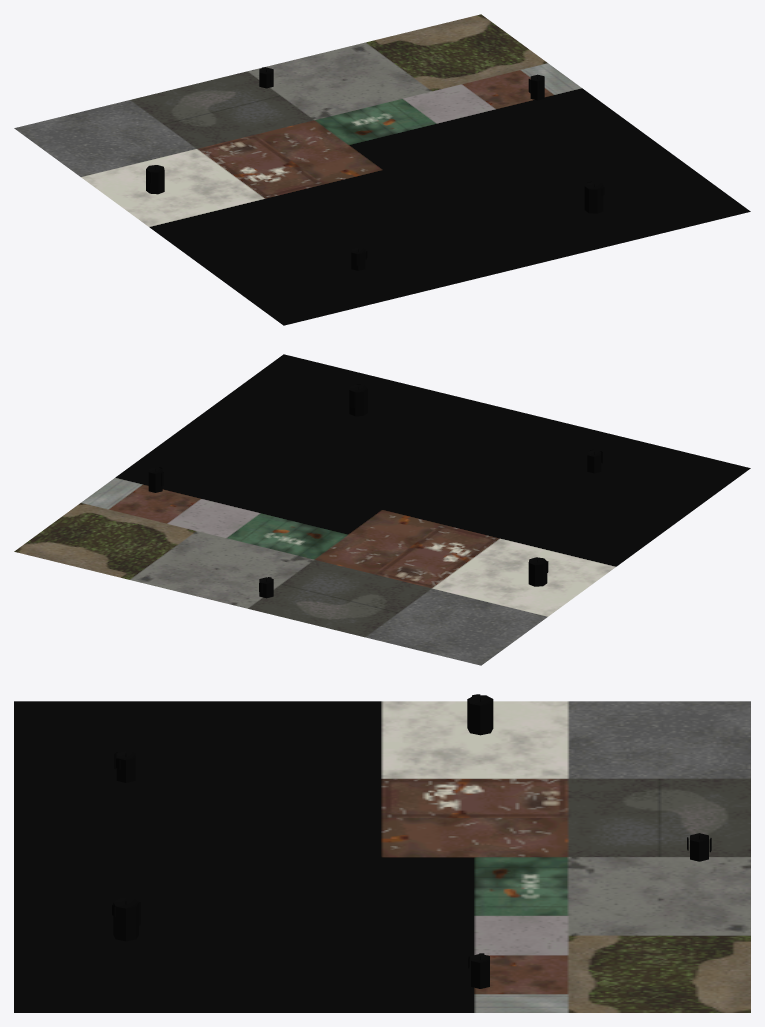
File: ritual_circle.fbx
3 views of the same model, one above another, from view 1: azimuth 30°, elevation 25°; view 2: azimuth 150°, elevation 25°; view 3: azimuth 270°, elevation 25° (orthographic). The views are drawn at different scales.
Visible parts, largest first — view 1: ritual_circle; view 2: ritual_circle; view 3: ritual_circle.
Part boxes in pixels (x1,y1,x2,y2): ritual_circle: [14, 14, 750, 325]; ritual_circle: [14, 354, 750, 665]; ritual_circle: [14, 694, 750, 1012].
Size of the model in its own units: 2 by 0.107 by 2.
